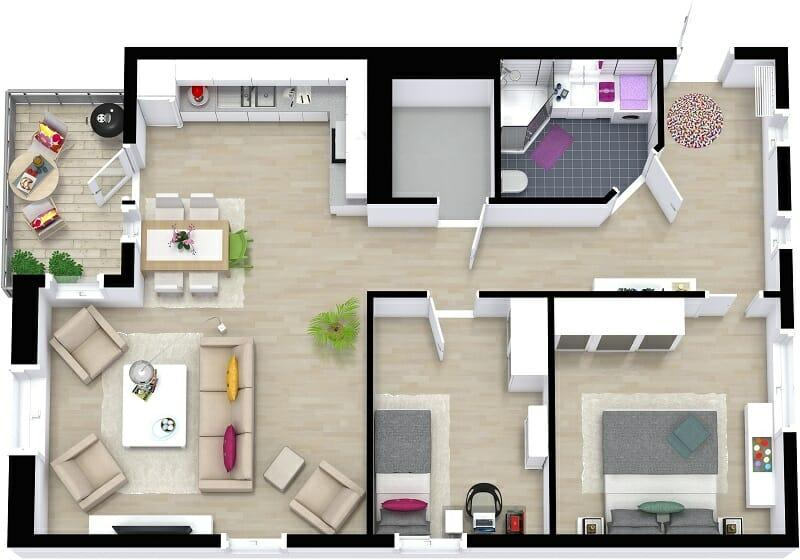room: (26, 279, 371, 541), (552, 294, 792, 539), (129, 54, 376, 279), (370, 293, 551, 539), (498, 55, 661, 200), (376, 55, 498, 199)
